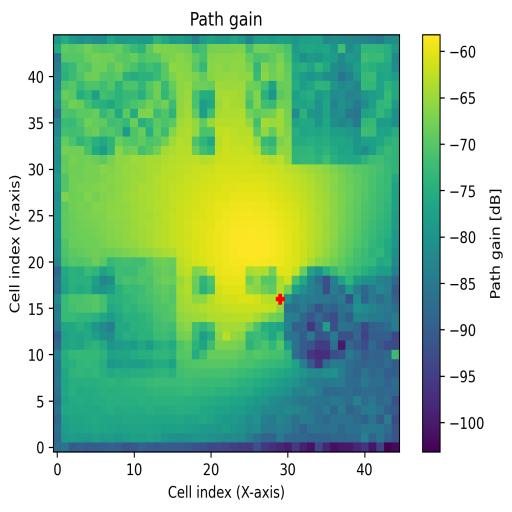Concrete: (292, 43, 362, 164)
Glass: (100, 54, 178, 156)
Metal: (284, 266, 354, 368)
Wood: (107, 255, 177, 370)
